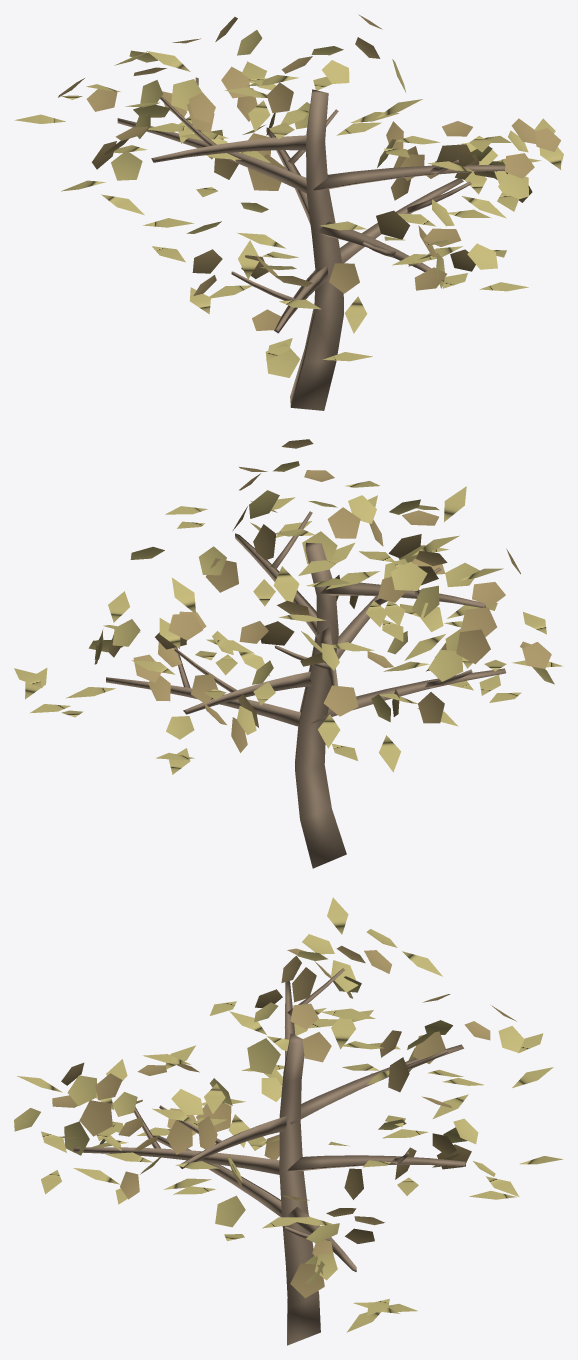
Rendered from SM_PlantBlossomWiltedLod2.fbx.
3 views of the same model, one above another, from view 1: azimuth 30°, elevation 25°; view 2: azimuth 150°, elevation 25°; view 3: azimuth 270°, elevation 25° (orthographic). The views are drawn at different scales.
Visible parts, largest first — view 1: PlantBlossomWiltedLod2; view 2: PlantBlossomWiltedLod2; view 3: PlantBlossomWiltedLod2.
Part boxes in pixels (x1=…): PlantBlossomWiltedLod2: x1=14, y1=14, x2=563, y2=410; PlantBlossomWiltedLod2: x1=14, y1=439, x2=562, y2=868; PlantBlossomWiltedLod2: x1=14, y1=897, x2=562, y2=1345.
Bounding box in the file's own units: 1.99 × 1.55 × 2.07.
